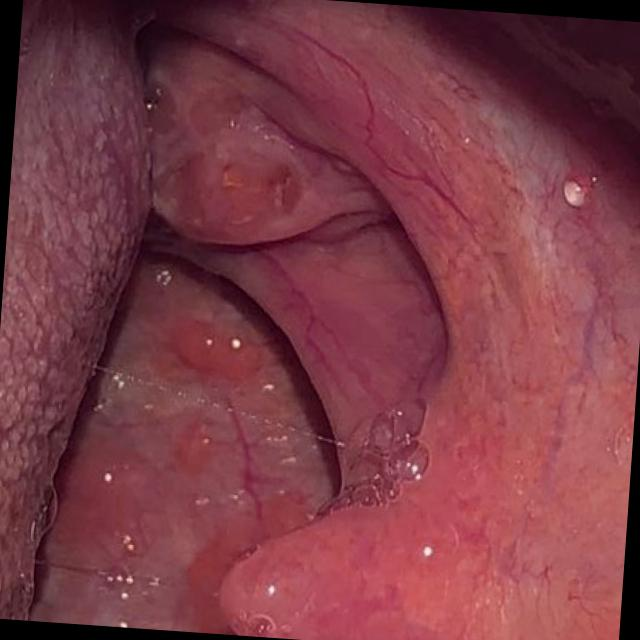Non Pharyngitis: (112, 17, 382, 322)
